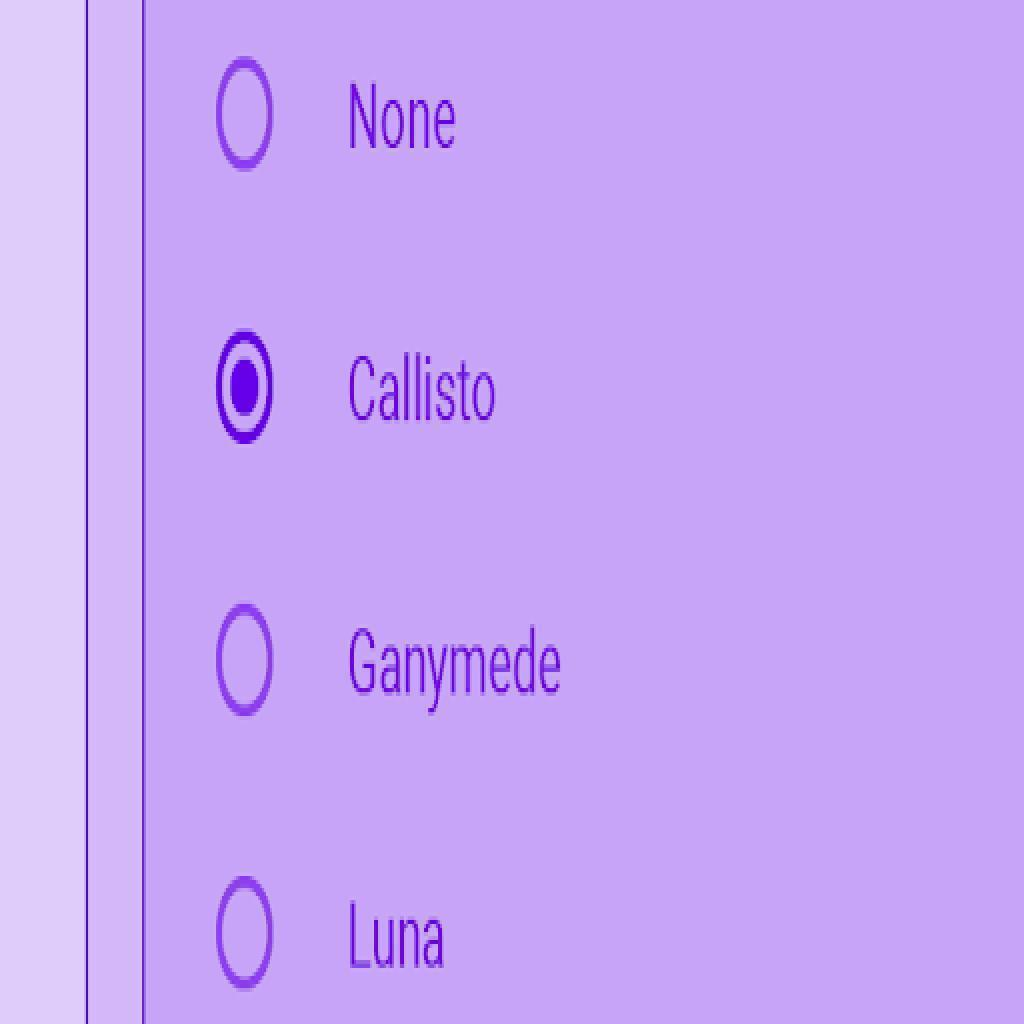label: (348, 621, 571, 706), (345, 338, 501, 431), (348, 79, 468, 160), (344, 889, 454, 970)
radio: (210, 56, 280, 173), (214, 872, 274, 995), (215, 601, 276, 717), (216, 327, 274, 443)
